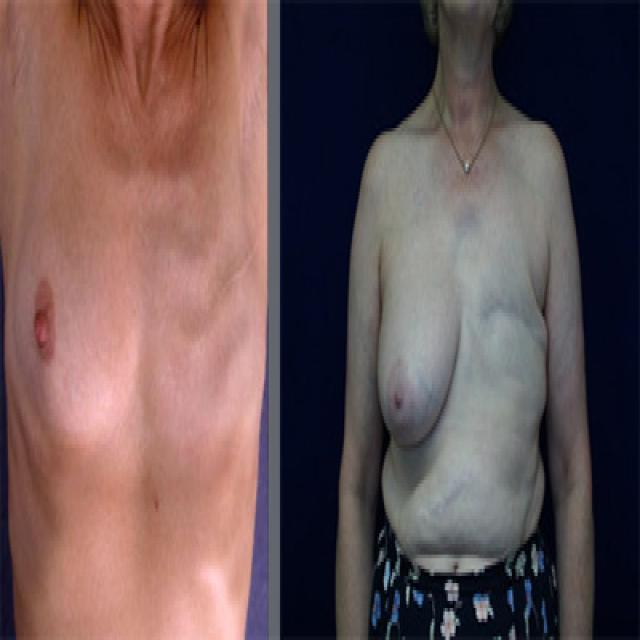Seno herido: (139, 194, 270, 483), (470, 226, 552, 468)
Seno ileso: (6, 194, 136, 483), (374, 226, 464, 468)
